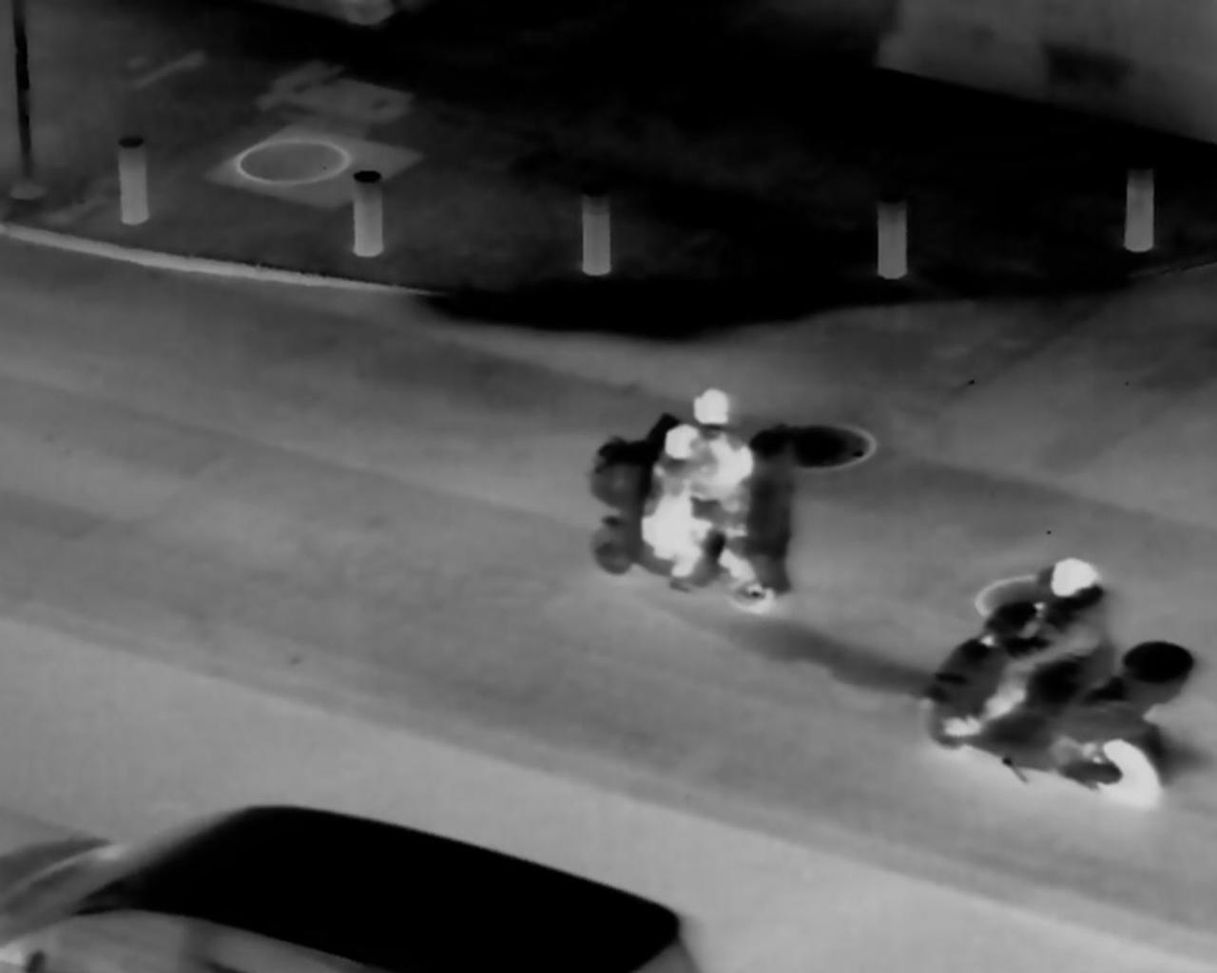person: (1005, 539, 1112, 754), (643, 382, 750, 587)
